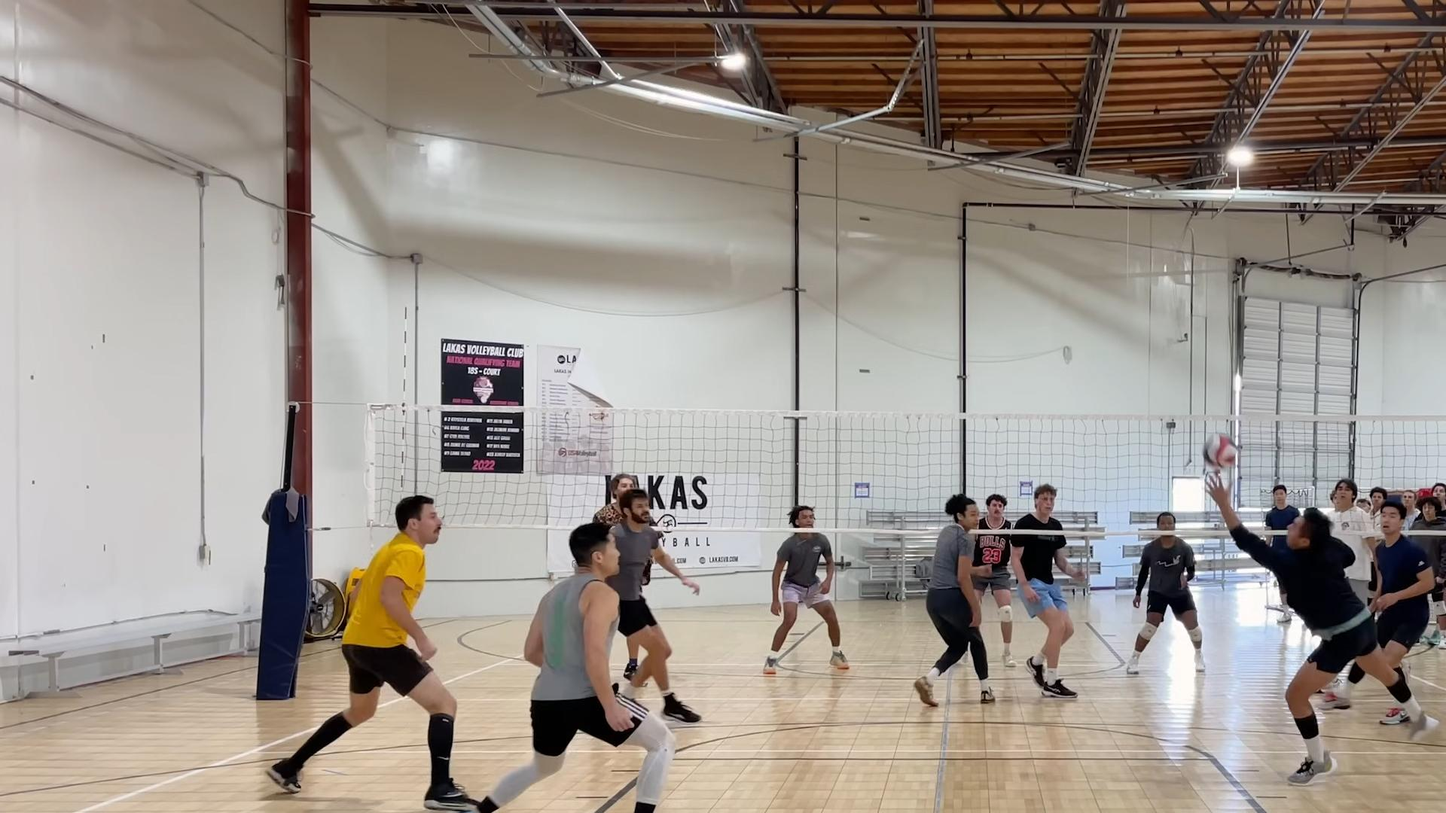Dig: (1190, 489, 1446, 813)
Player: (266, 496, 476, 810), (477, 523, 675, 812), (608, 489, 700, 723), (914, 494, 994, 705), (1011, 485, 1087, 699), (764, 505, 848, 674), (1126, 534, 1204, 674), (1370, 501, 1435, 668), (973, 494, 1016, 667), (1323, 478, 1377, 602), (594, 473, 636, 526)
ball: (1203, 430, 1243, 466)
